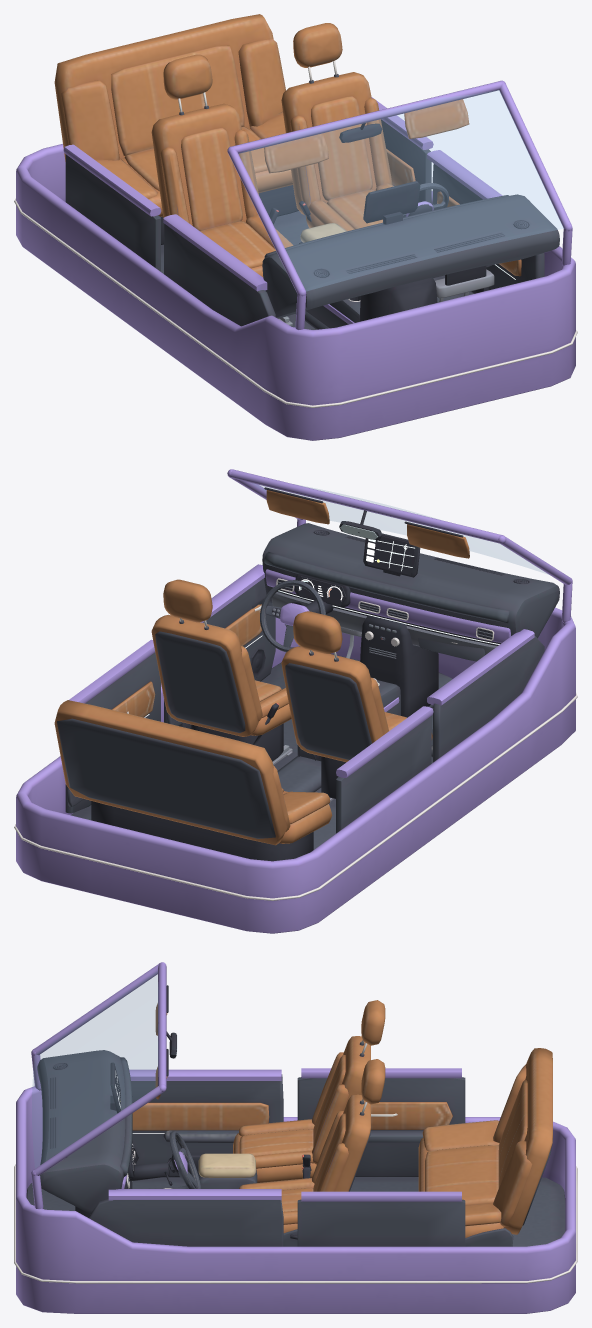
Rendered from cockpit.glb.
3 views of the same model, one above another, from view 1: azimuth 30°, elevation 25°; view 2: azimuth 150°, elevation 25°; view 3: azimuth 270°, elevation 25° (orthographic). The views are drawn at different scales.
Visible parts, largest first — view 1: modern-car-interior_body, modern-car-interior_windshield_glass, modern-car-interior_steering_wheel; view 2: modern-car-interior_body, modern-car-interior_windshield_glass, modern-car-interior_steering_wheel; view 3: modern-car-interior_body, modern-car-interior_windshield_glass, modern-car-interior_steering_wheel.
Part boxes in pixels (x1,y1,x2,y2): modern-car-interior_body: (14,14,577,440); modern-car-interior_windshield_glass: (239,90,563,290); modern-car-interior_steering_wheel: (383,183,448,222); modern-car-interior_body: (14,469,577,933); modern-car-interior_windshield_glass: (251,483,546,573); modern-car-interior_steering_wheel: (260,580,325,652); modern-car-interior_body: (14,962,577,1313); modern-car-interior_windshield_glass: (32,971,159,1167); modern-car-interior_steering_wheel: (169,1131,200,1188).
Size of the model in its own units: 1.8 by 1.39 by 3.16.
15 materials, 2 textured.
